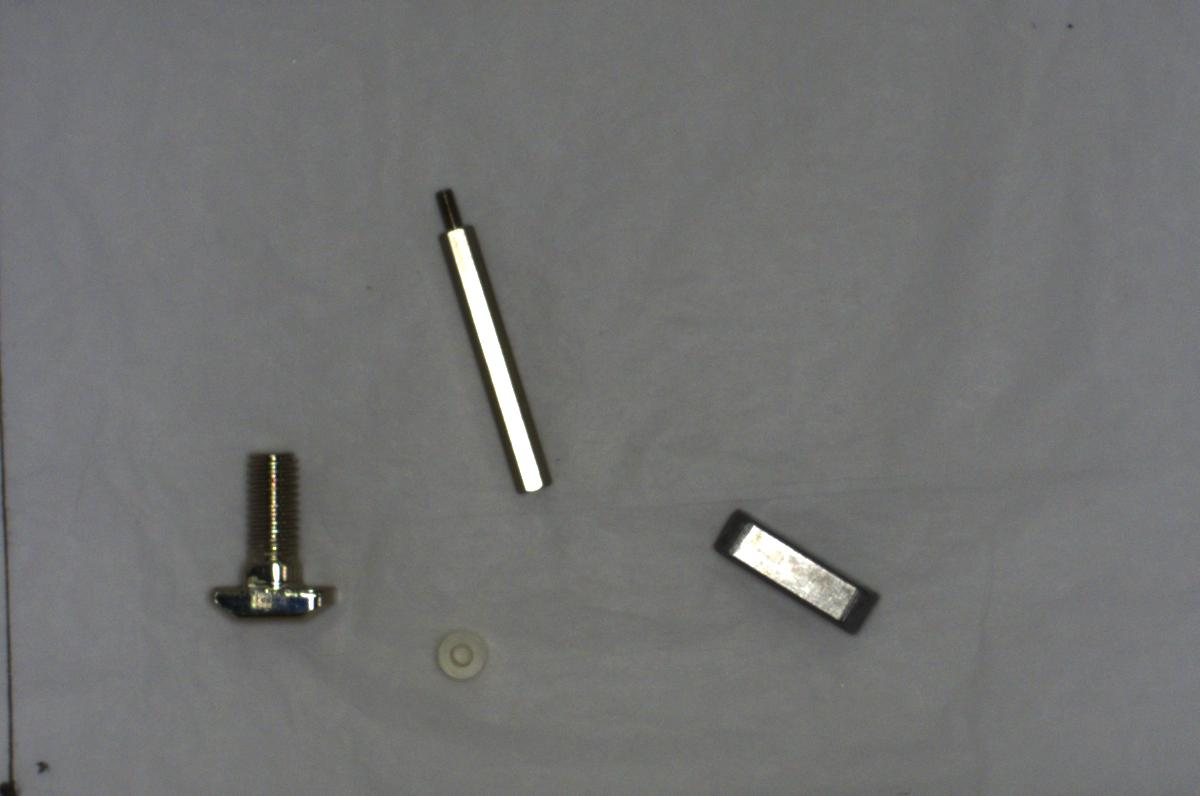Hexagonal steel column: (435, 173, 554, 508)
Keybar: (699, 499, 890, 643)
Plastic cushion pillar: (426, 627, 505, 687)
T-shaped screw: (195, 439, 347, 636)
